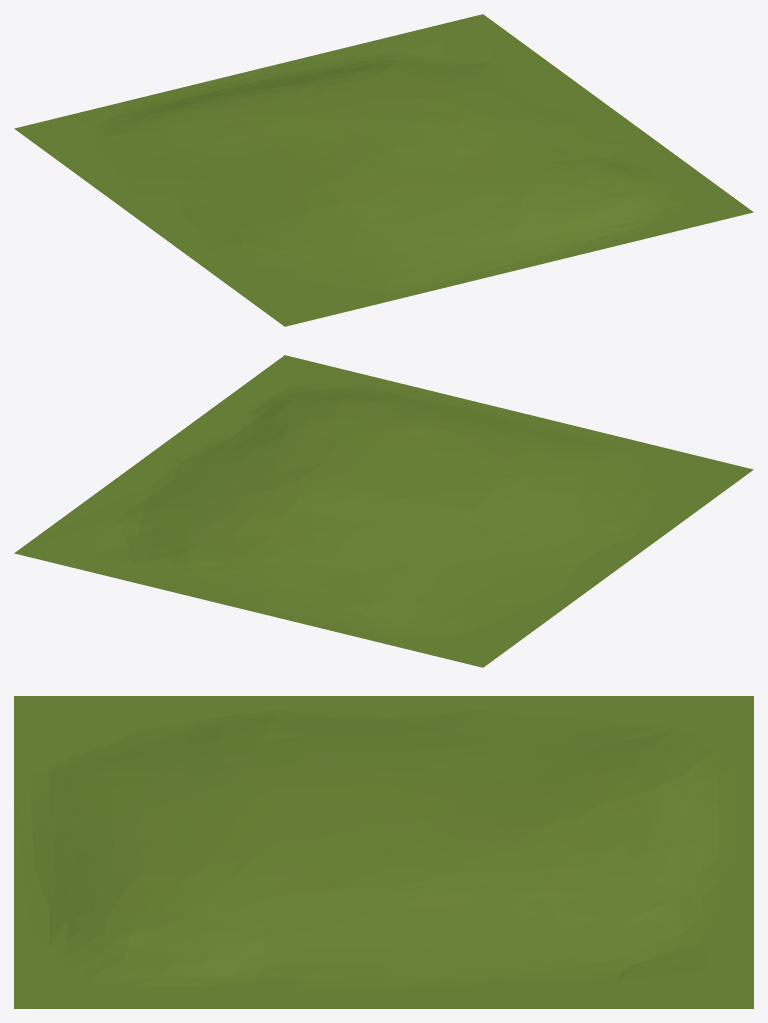
Rendered from Terrain_05.glb.
The picture shows the model from 3 angles, top to bottom: view 1: azimuth 30°, elevation 25°; view 2: azimuth 150°, elevation 25°; view 3: azimuth 270°, elevation 25°; orthographic projection. The views are drawn at different scales.
Visible parts, largest first — view 1: Terrain_05; view 2: Terrain_05; view 3: Terrain_05.
Boxes of the visible parts, bbox=[...] form: Terrain_05: bbox=[14, 14, 753, 326]; Terrain_05: bbox=[14, 355, 753, 667]; Terrain_05: bbox=[14, 696, 753, 1008].
Bounding box in the file's own units: 128 × 4.06 × 128.
Materials: 1 (1 with a texture image).
